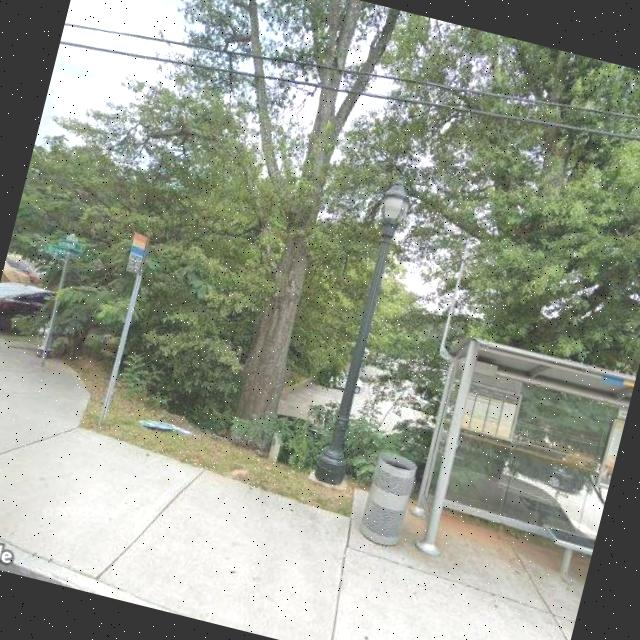seating: (534, 522, 596, 587)
shelter: (396, 330, 636, 598)
trash_can: (356, 450, 420, 550)
